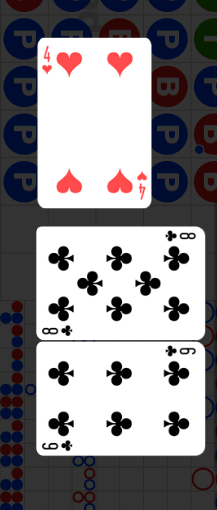4H: (41, 45, 54, 76)
6C: (41, 438, 75, 452)
8C: (163, 230, 197, 244)
